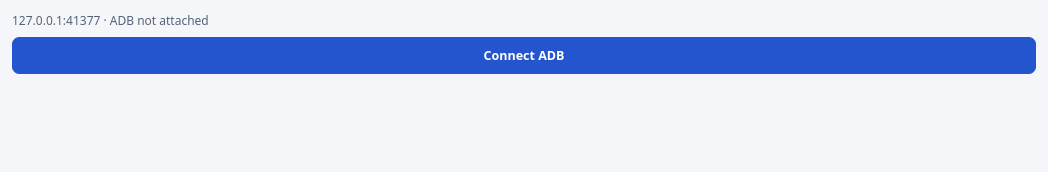
Scenario: SessionAdbLine › shows the copy for {"outcome":"not_loopback"}
What coordinates should you click on to do the following:
click the button "Connect ADB"
I would click on:
 (524, 55)
Its box is [12,37,1036,74].
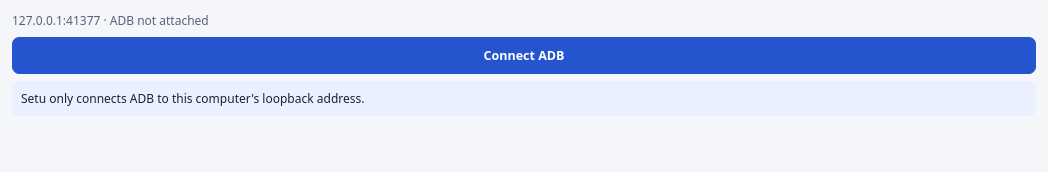
Check: the message reads "Setu only connects ADB to this computer's loopback address.", box [21,90,364,107]
